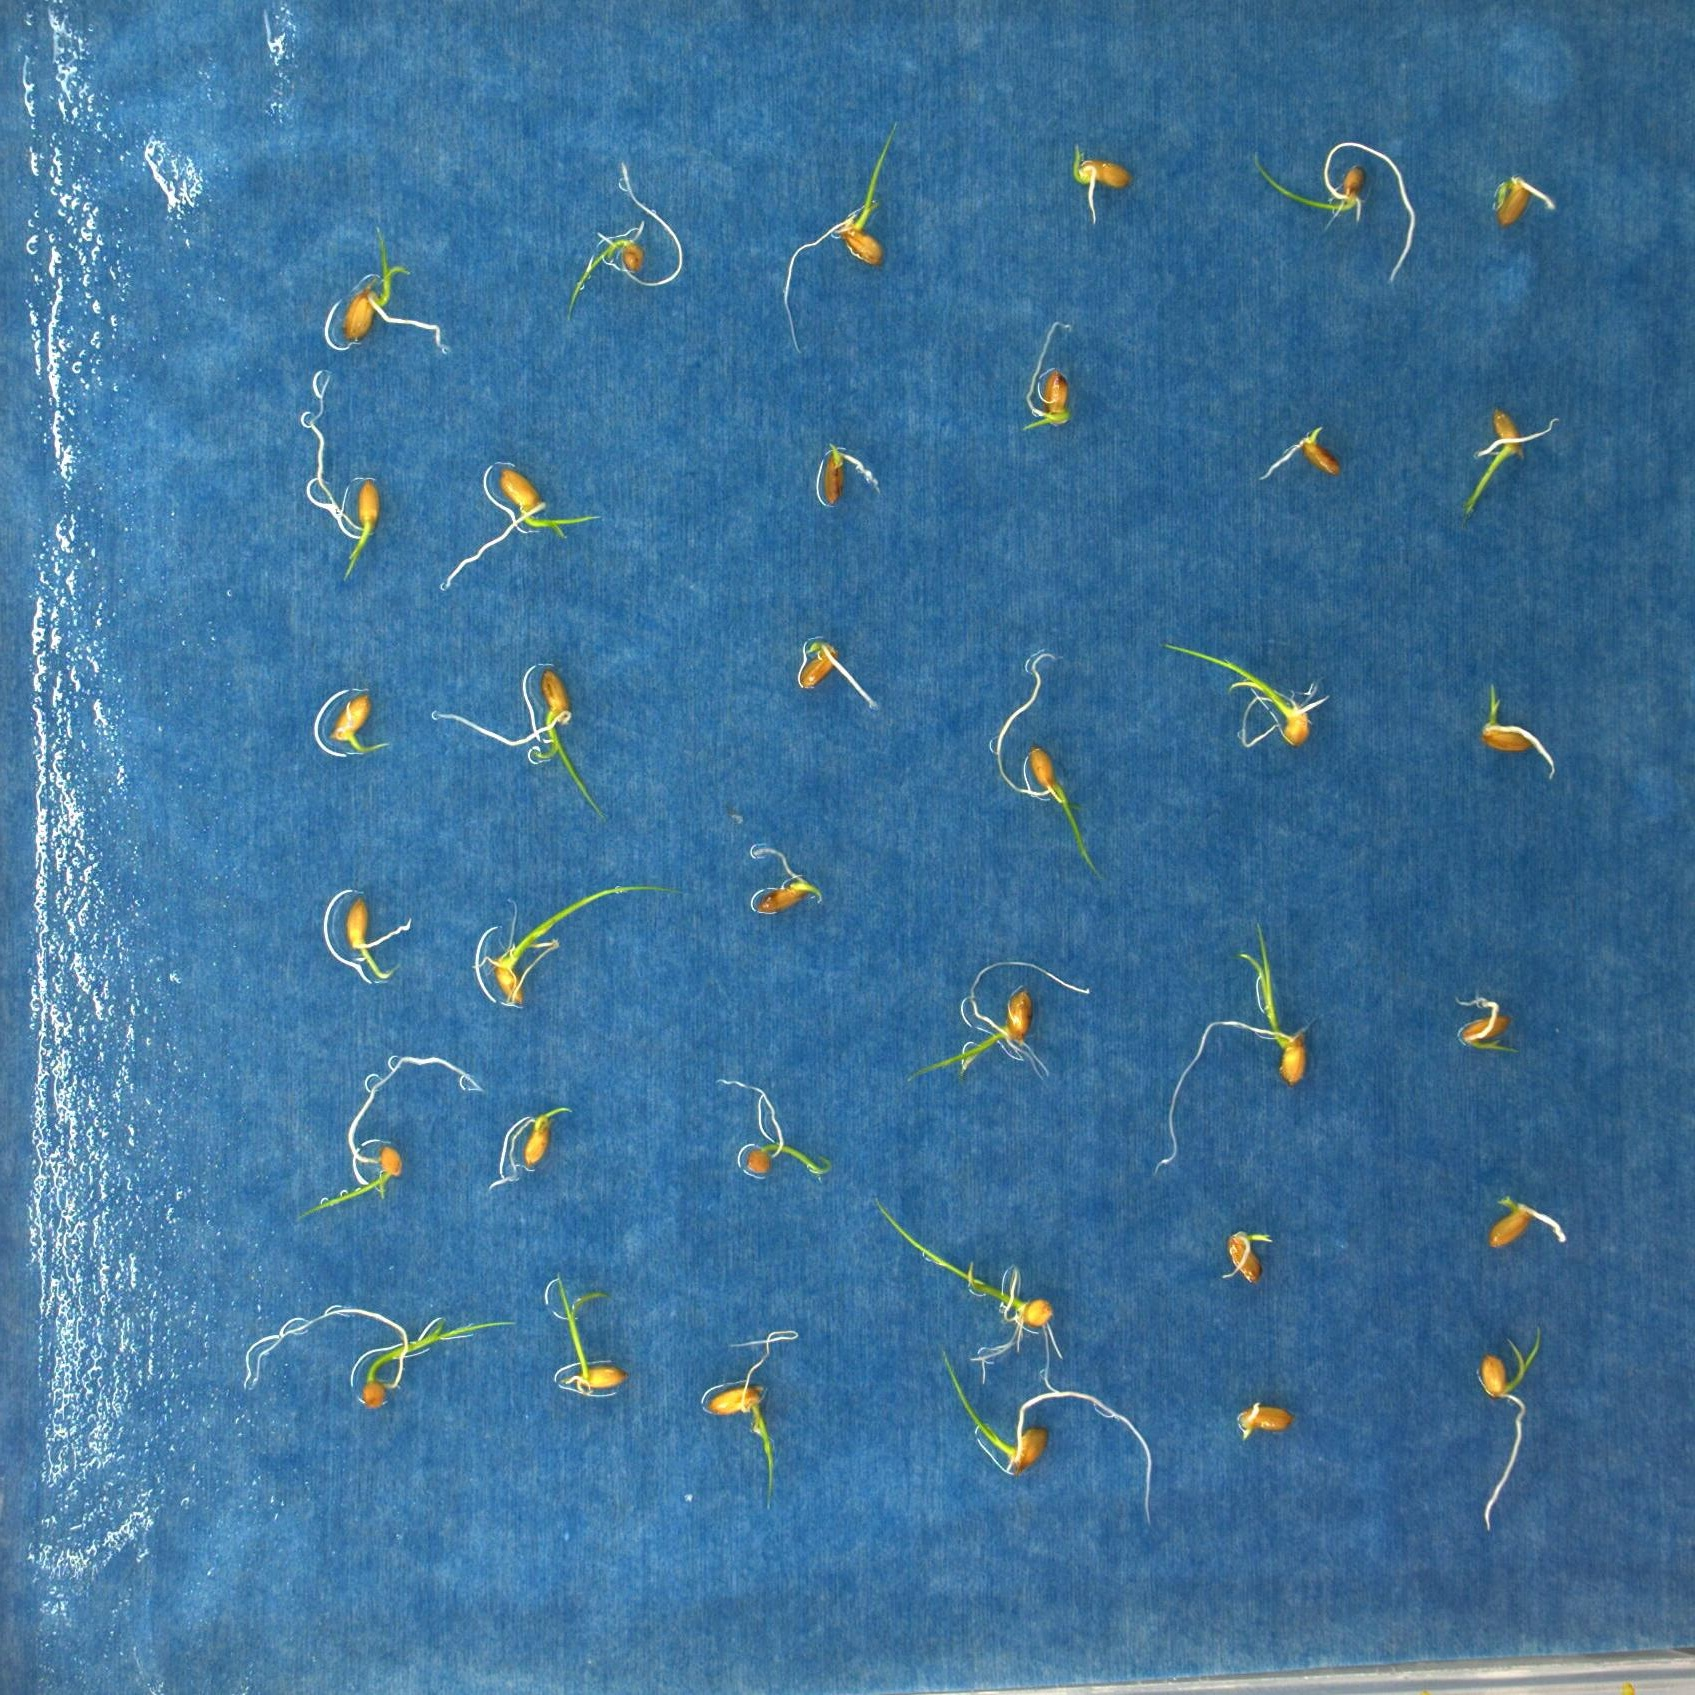not sprout: (793, 638, 886, 712), (1256, 416, 1340, 498), (1482, 1189, 1571, 1256), (1468, 692, 1552, 761), (802, 442, 879, 511), (1225, 1388, 1295, 1451), (1487, 169, 1557, 230), (1215, 1225, 1274, 1288)
sprout: (924, 1330, 1139, 1560), (838, 1192, 1090, 1383), (1139, 917, 1324, 1172), (984, 646, 1138, 913), (258, 1048, 486, 1222), (244, 1287, 557, 1412), (477, 830, 661, 1035), (765, 118, 922, 359), (683, 1307, 834, 1534), (860, 958, 1077, 1104), (427, 650, 598, 818), (286, 365, 400, 591), (1242, 137, 1412, 289), (442, 445, 612, 584), (557, 154, 692, 321), (1156, 638, 1312, 771), (1458, 1326, 1551, 1532), (705, 1060, 847, 1194), (341, 225, 445, 362), (1462, 388, 1558, 532), (542, 1270, 632, 1409), (1009, 317, 1093, 442), (1051, 137, 1138, 224), (1442, 986, 1527, 1073), (489, 1104, 573, 1183), (331, 681, 404, 768), (337, 899, 399, 997), (747, 841, 820, 920)
